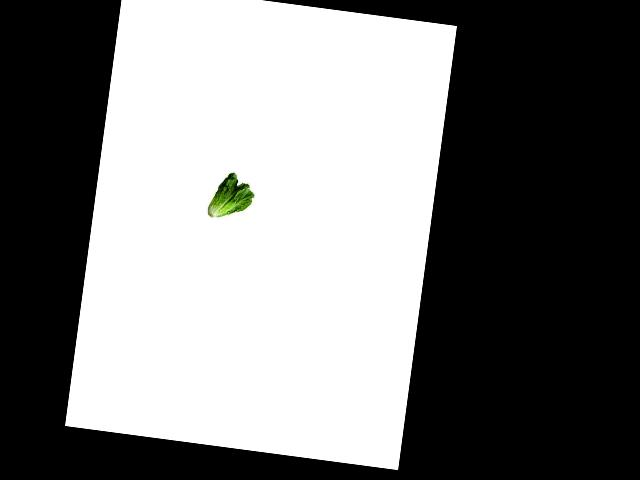lettuce: (205, 170, 262, 224)
